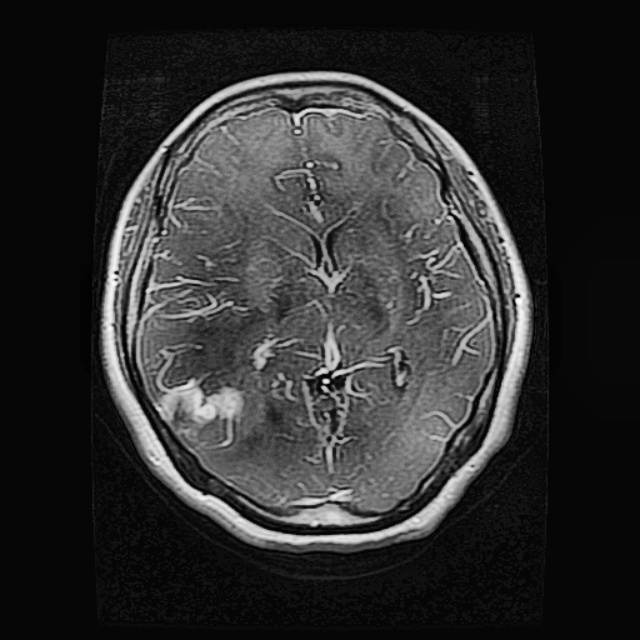Pituitary: (155, 379, 247, 428)
